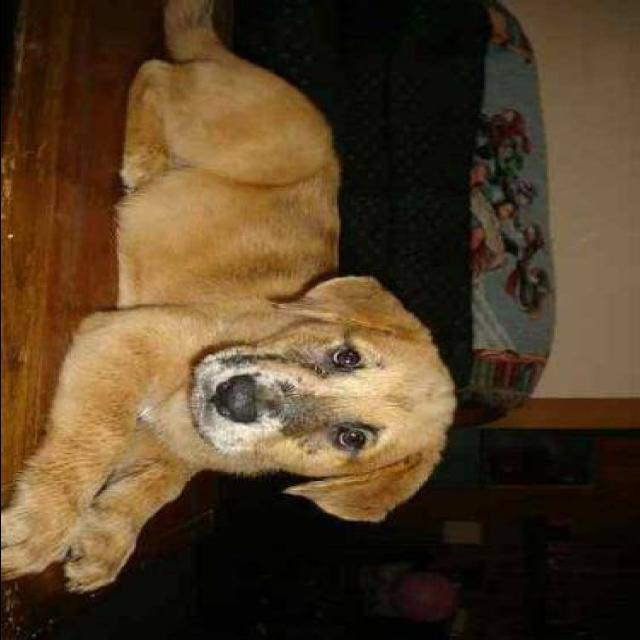dog: (0, 3, 499, 595)
